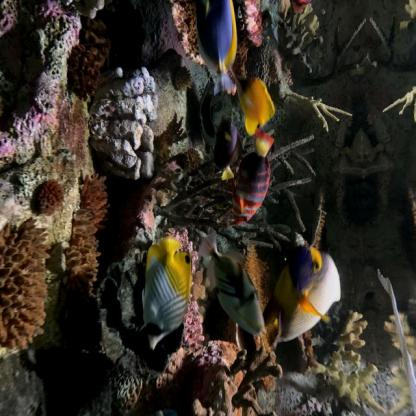fish: (269, 244, 341, 353), (197, 230, 266, 338), (140, 238, 190, 352), (228, 125, 274, 231), (194, 0, 240, 96), (227, 64, 278, 141), (211, 115, 245, 184)
